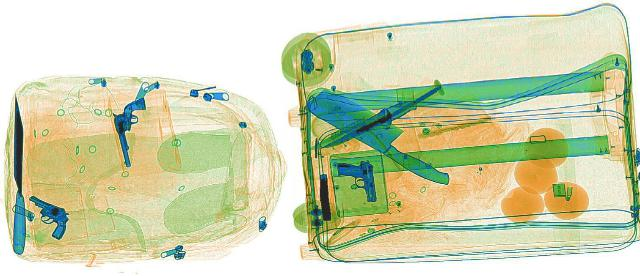Gun: (0, 195, 101, 235), (108, 96, 156, 166), (334, 159, 376, 200), (315, 173, 333, 218)
Knife: (283, 87, 483, 185), (317, 85, 447, 149), (301, 96, 429, 150), (6, 93, 28, 252)
